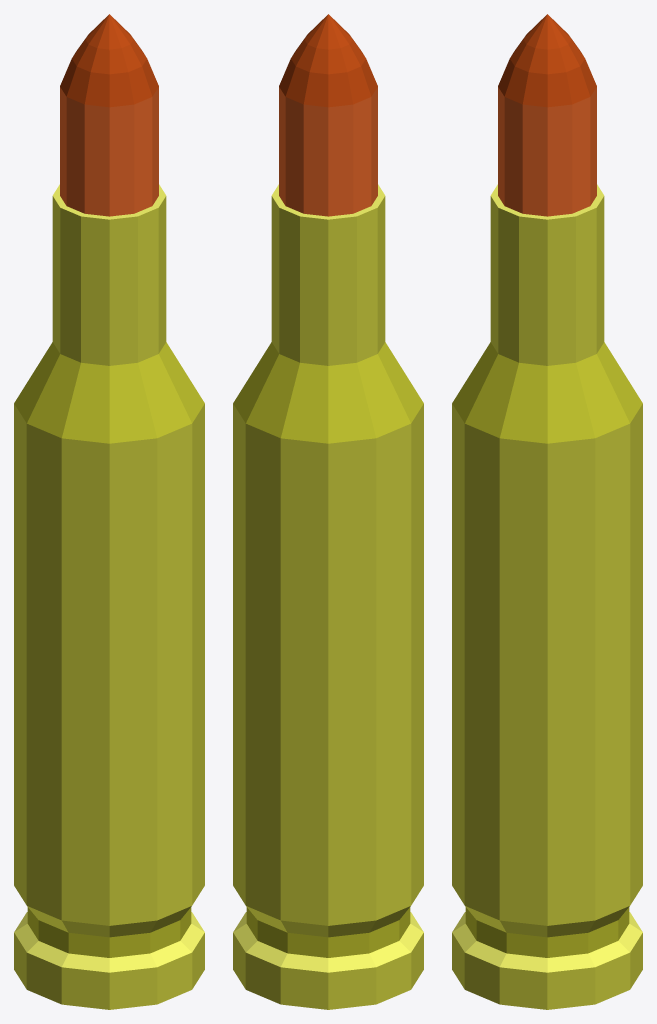
The model's file is mesh_bullet_big.fbx.
3 views of the same model, side by side, from view 1: azimuth 30°, elevation 25°; view 2: azimuth 150°, elevation 25°; view 3: azimuth 270°, elevation 25° (orthographic).
Visible parts, largest first — view 1: mesh_bullet_big; view 2: mesh_bullet_big; view 3: mesh_bullet_big.
Part boxes in pixels (bbox=[...]): mesh_bullet_big: bbox=[14, 14, 204, 1009]; mesh_bullet_big: bbox=[233, 14, 423, 1009]; mesh_bullet_big: bbox=[452, 14, 642, 1009].
Size of the model in its own units: 0.0212 by 0.1172 by 0.0212.
